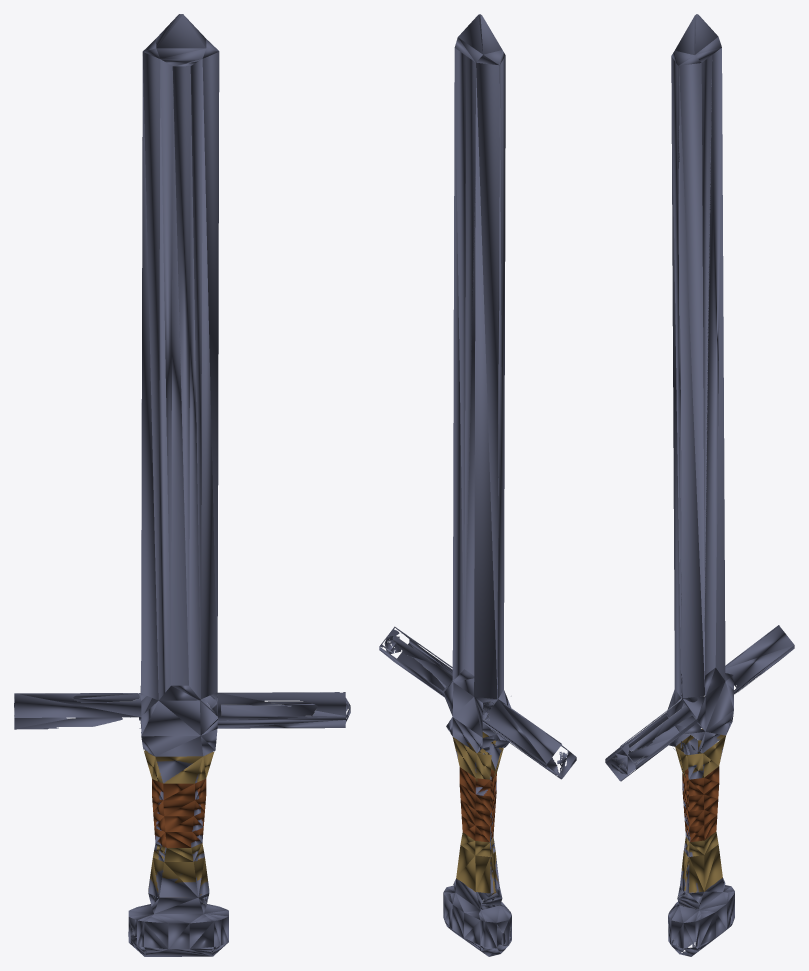
The model's file is swordtest2.fbx.
The picture shows the model from 3 angles, left to right: view 1: azimuth 30°, elevation 25°; view 2: azimuth 150°, elevation 25°; view 3: azimuth 270°, elevation 25°; orthographic projection.
Visible parts, largest first — view 1: Cube; view 2: Cube; view 3: Cube.
Part boxes in pixels (x1,y1,x2,y2): Cube: (14,14,350,956); Cube: (379,14,576,956); Cube: (605,14,794,956).
Bounding box in the file's own units: 27.24 × 92.29 × 17.06.
